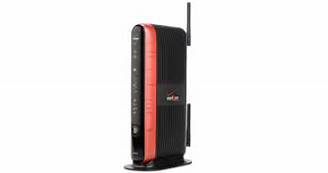Verizon Router: (120, 6, 209, 171)
